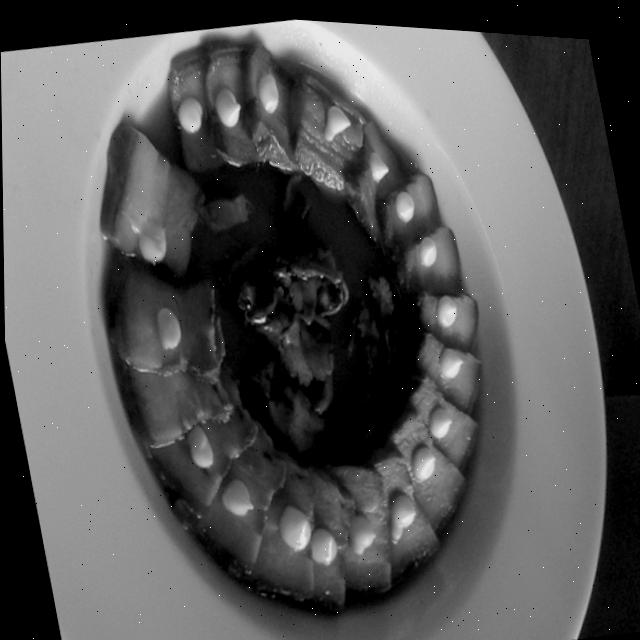牛肉菜式: (41, 2, 553, 640)
